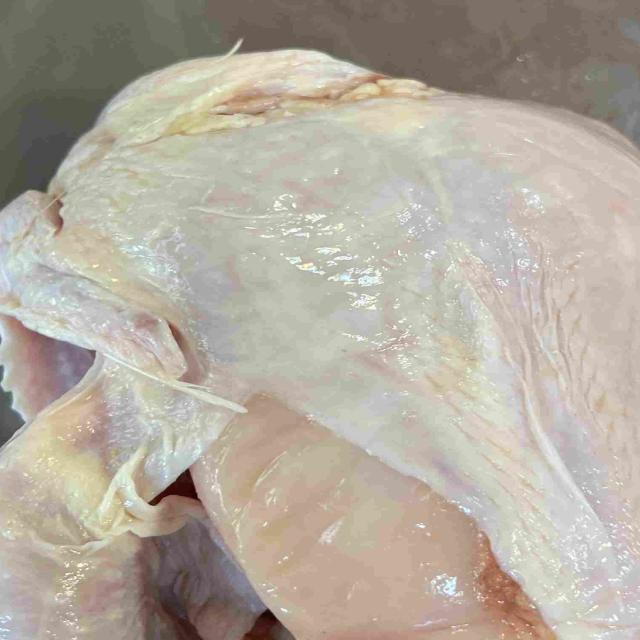breast: (31, 95, 640, 640)
leg: (0, 396, 150, 640)
wing: (0, 193, 168, 421)
